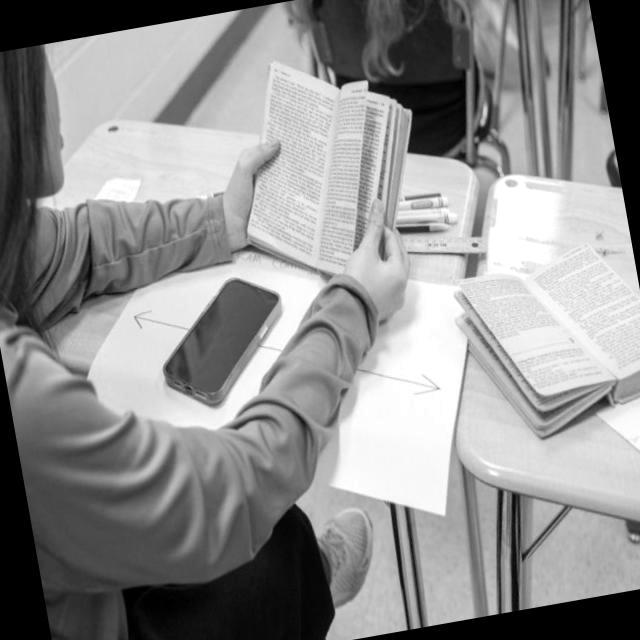phone: (147, 268, 296, 414)
